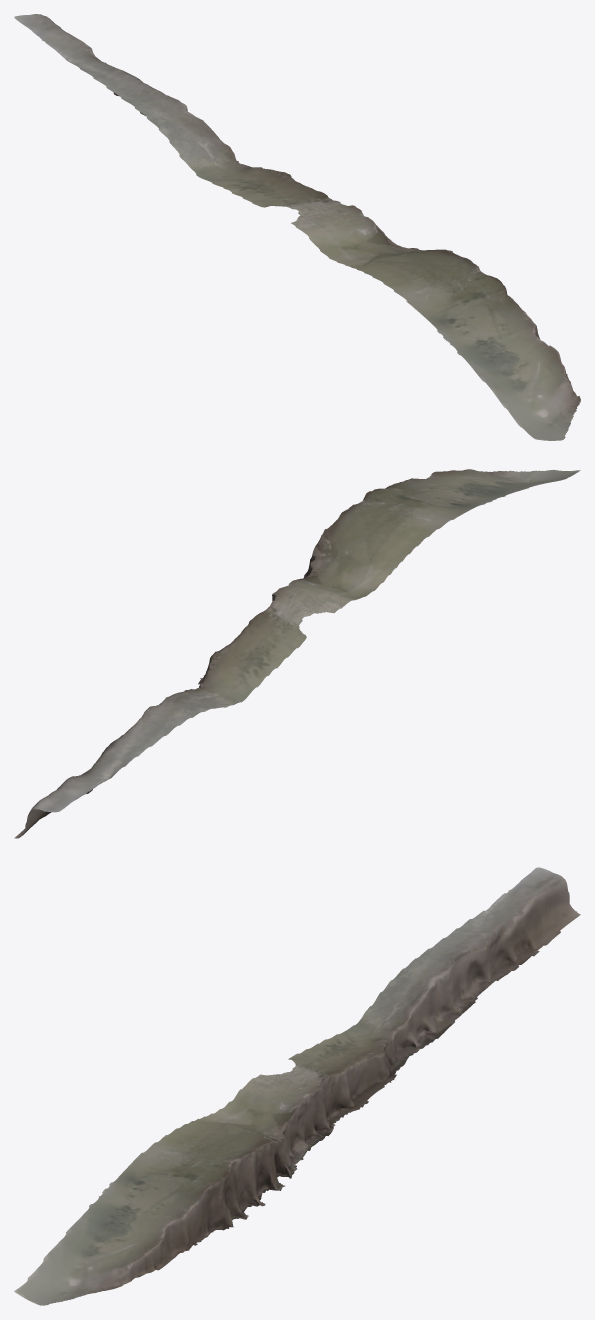
3 renders of one model, top to bottom at view 1: azimuth 30°, elevation 25°; view 2: azimuth 150°, elevation 25°; view 3: azimuth 330°, elevation 25°, orthographic.
Parts seen in each view (by area): view 1: Object_2; view 2: Object_2; view 3: Object_2.
Part boxes in pixels (bbox=[...]): Object_2: bbox=[14, 14, 580, 440]; Object_2: bbox=[14, 469, 580, 838]; Object_2: bbox=[14, 867, 580, 1305].
Size of the model in its own units: 1.94 by 0.9983 by 16.8.
Materials: 1 (1 with a texture image).
